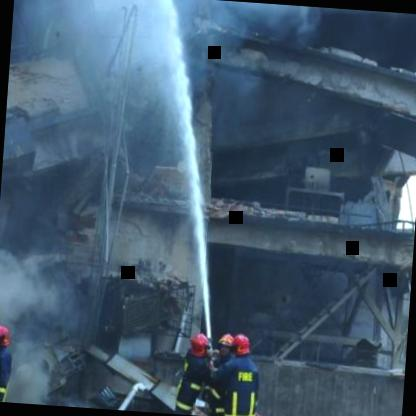helmet: (186, 330, 212, 360), (212, 332, 237, 362), (230, 329, 254, 360), (0, 320, 14, 353)
